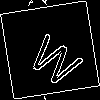W: (25, 25, 90, 90)
